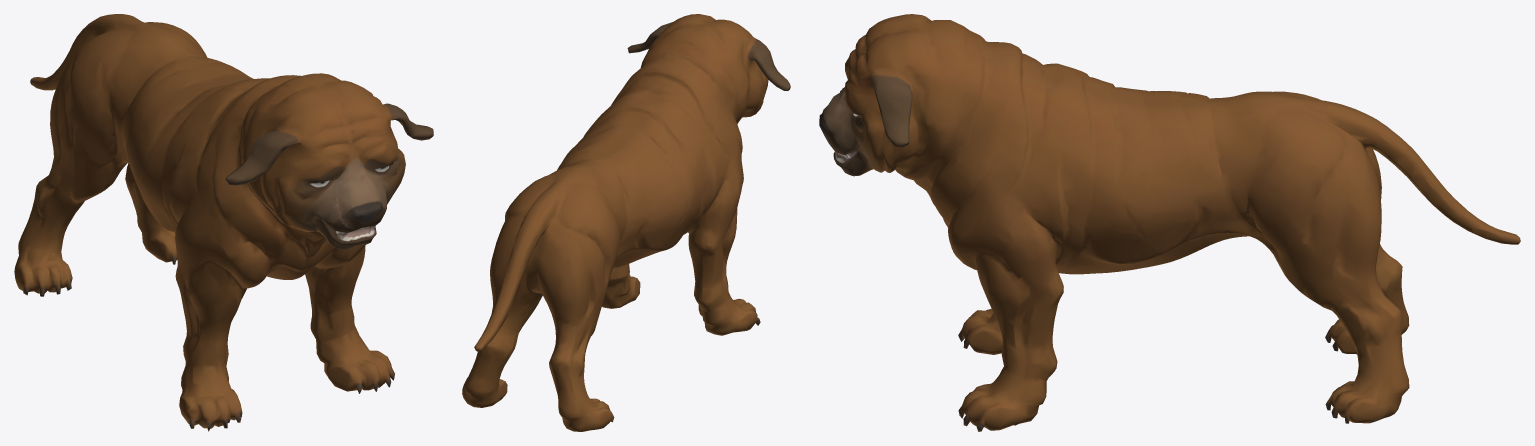
File: tobei.glb
3 renders of one model, left to right at view 1: azimuth 30°, elevation 25°; view 2: azimuth 150°, elevation 25°; view 3: azimuth 270°, elevation 25°, orthographic. The views are drawn at different scales.
Visible parts, largest first — view 1: tripo_node_6673a28f-22bc-40e7-a0ae-43b83754eb7c; view 2: tripo_node_6673a28f-22bc-40e7-a0ae-43b83754eb7c; view 3: tripo_node_6673a28f-22bc-40e7-a0ae-43b83754eb7c.
Boxes of the visible parts, bbox=[...] form: tripo_node_6673a28f-22bc-40e7-a0ae-43b83754eb7c: bbox=[14, 14, 433, 431]; tripo_node_6673a28f-22bc-40e7-a0ae-43b83754eb7c: bbox=[462, 14, 790, 431]; tripo_node_6673a28f-22bc-40e7-a0ae-43b83754eb7c: bbox=[819, 14, 1520, 431].
Size of the model in its own units: 0.3558 by 0.5621 by 1.
1 material, 1 textured.
